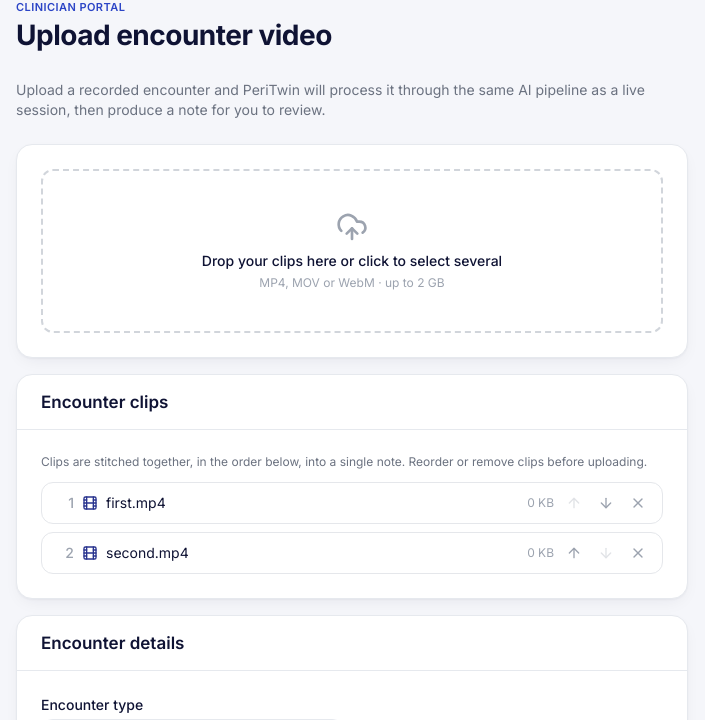
Test: VideoImportClient — flag ON (multi-clip) › selects several files, reorders them, and uploads each in order
Earlier steps of the test are not shown.
Later steps or results of the test are not shown.
Check: the number of list items with test id "video-import-clip-row" is 2, box [41, 482, 663, 524]; [41, 532, 663, 574]
Check: the list item with test id "video-import-clip-row" shows "first.mp4", box [106, 494, 166, 511]
Step 1. Click the button named "Move clip up" in the row of "second.mp4" → (574, 553), box [562, 541, 586, 565]
(page scrolled)
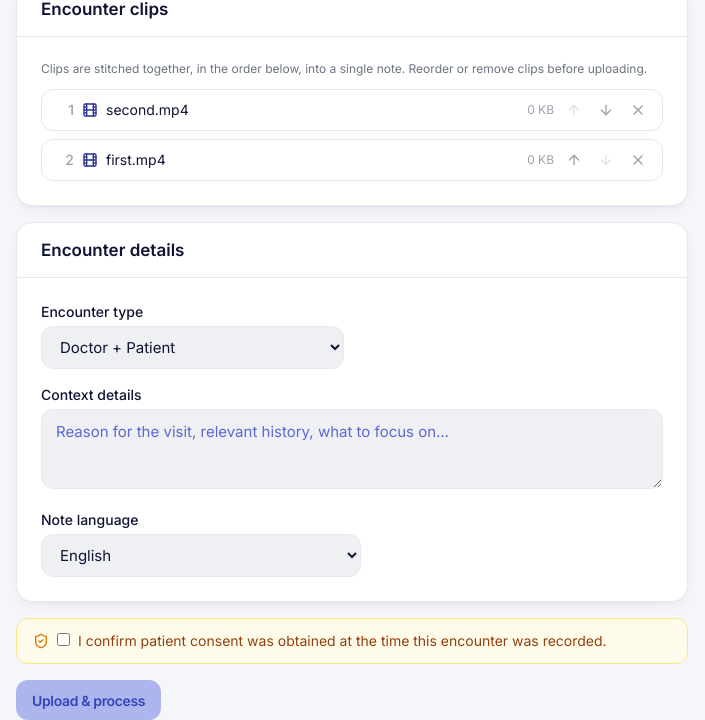
Check: the list item with test id "video-import-clip-row" shows "second.mp4", box [106, 101, 189, 118]
Check: the list item with test id "video-import-clip-row" shows "first.mp4", box [106, 151, 166, 168]
